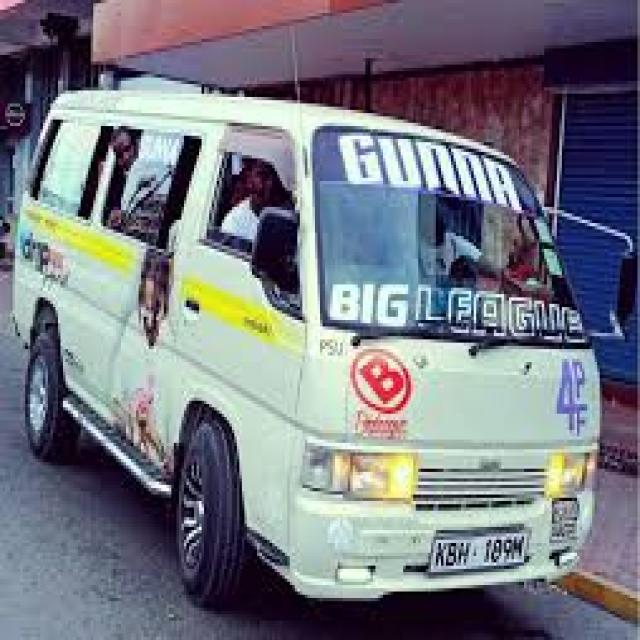matatu: (5, 22, 640, 624)
